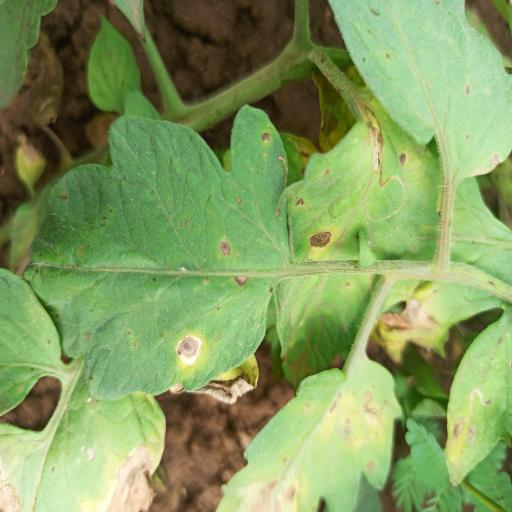Early Blight: (22, 104, 284, 396)
